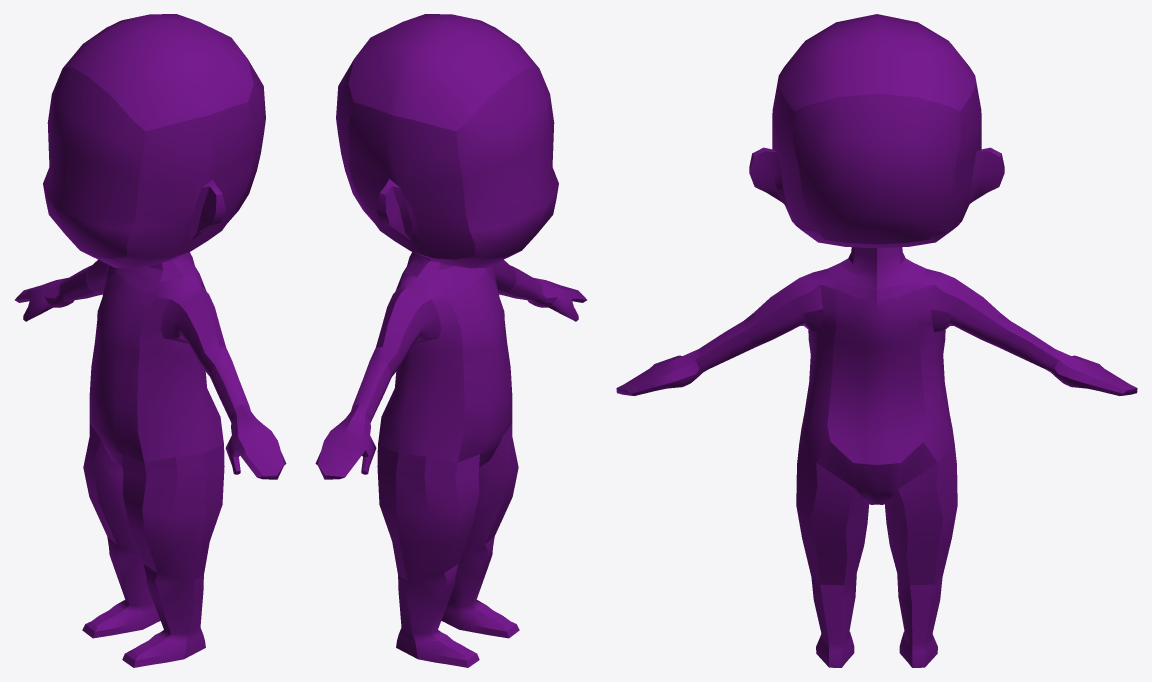
File: PurplePLaceholder.fbx
3 renders of one model, left to right at view 1: azimuth 30°, elevation 25°; view 2: azimuth 150°, elevation 25°; view 3: azimuth 270°, elevation 25°, orthographic. The views are drawn at different scales.
Parts seen in each view (by area): view 1: Body, Head; view 2: Body, Head; view 3: Body, Head.
Boxes of the visible parts, x1,y1,x2,y2 form: Body: [15, 252, 286, 667]; Head: [43, 14, 265, 268]; Body: [315, 252, 586, 667]; Head: [336, 14, 558, 268]; Body: [616, 247, 1137, 667]; Head: [749, 14, 1004, 248].
Bounding box in the file's own units: 2.26 × 6.64 × 4.97.
